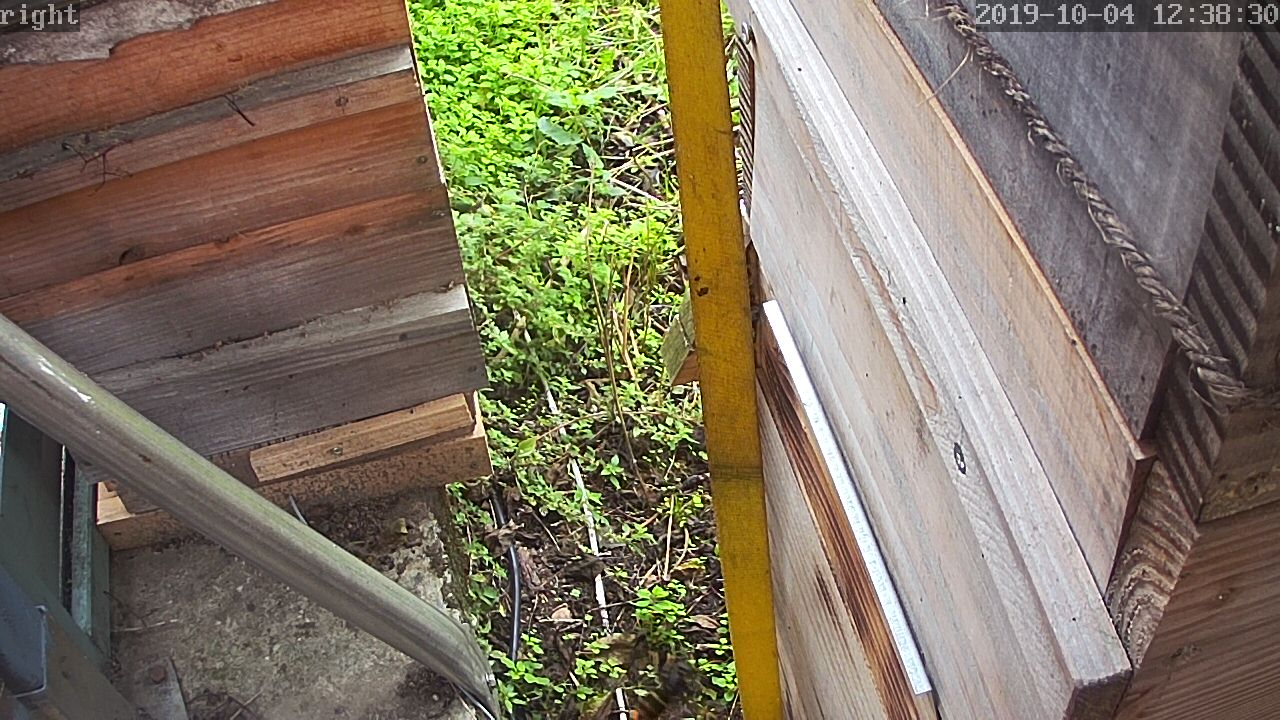hornet: (621, 669, 695, 720)
